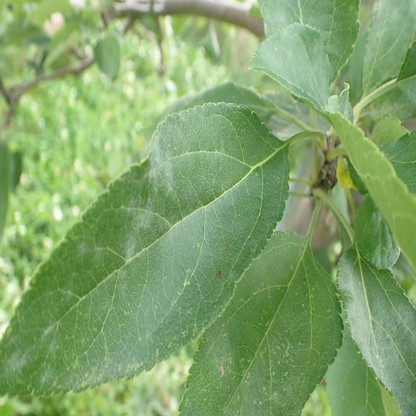powdery_mildew: (0, 101, 295, 400), (173, 250, 343, 416), (250, 0, 353, 122), (338, 254, 415, 416), (364, 0, 415, 71)
